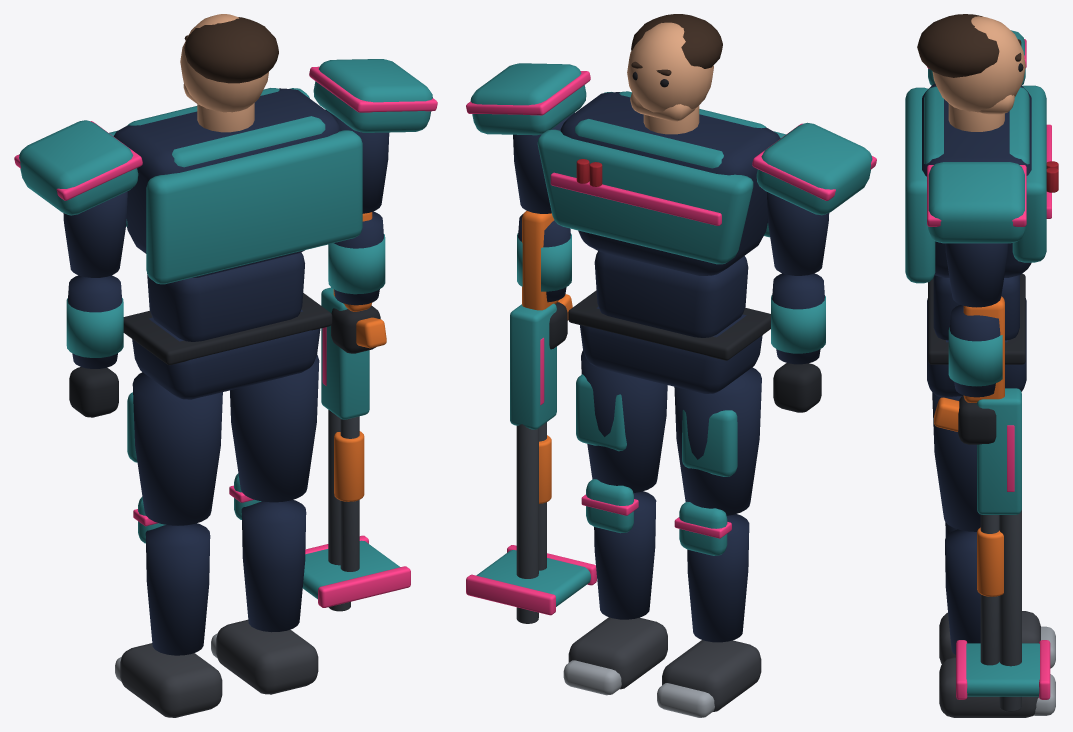
The model's file is ratchet.glb.
The picture shows the model from 3 angles, left to right: view 1: azimuth 30°, elevation 25°; view 2: azimuth 150°, elevation 25°; view 3: azimuth 270°, elevation 25°; orthographic projection. The views are drawn at different scales.
Visible parts, largest first — view 1: BackPlate, Thigh0, Thigh1, Waist, Torso, Shin0, Shin1, Pauldron0, Pelvis, Pauldron1, Boot1, Boot0 (+22 smaller); view 2: ChestPlate, Torso, Waist, Thigh0, Thigh1, Pauldron0, Pelvis, Shin0, Shin1, Pauldron1, Head, Receiver (+30 smaller); view 3: Pauldron1, Receiver, BackPlate, Head, Torso, Thigh1, HairCap, Shin1, ChestPlate, UpperArm1, Barrel, RamPlate (+23 smaller).
Part boxes in pixels (left/top/right/bottom): BackPlate: left=146, top=130, right=362, bottom=284; Thigh0: left=132, top=372, right=222, bottom=525; Thigh1: left=230, top=355, right=319, bottom=502; Waist: left=147, top=252, right=304, bottom=341; Torso: left=113, top=88, right=340, bottom=277; Shin0: left=145, top=523, right=210, bottom=655; Shin1: left=241, top=500, right=306, bottom=632; Pauldron0: left=19, top=120, right=138, bottom=215; Pelvis: left=132, top=309, right=320, bottom=399; Pauldron1: left=313, top=59, right=432, bottom=132; Boot1: left=216, top=619, right=318, bottom=694; Boot0: left=120, top=643, right=222, bottom=717; ChestPlate: left=537, top=129, right=753, bottom=264; Torso: left=560, top=92, right=780, bottom=275; Waist: left=594, top=251, right=748, bottom=337; Thigh0: left=674, top=367, right=761, bottom=515; Thigh1: left=581, top=350, right=667, bottom=493; Pauldron0: left=756, top=122, right=872, bottom=215; Pelvis: left=580, top=306, right=762, bottom=393; Shin0: left=687, top=514, right=749, bottom=642; Shin1: left=594, top=491, right=656, bottom=619; Pauldron1: left=470, top=63, right=586, bottom=135; Head: left=627, top=22, right=713, bottom=112; Receiver: left=510, top=303, right=556, bottom=429; Pauldron1: left=928, top=162, right=1025, bottom=243; Receiver: left=977, top=388, right=1021, bottom=514; BackPlate: left=905, top=87, right=935, bottom=283; Head: left=932, top=16, right=1025, bottom=112; Torso: left=922, top=84, right=1031, bottom=277; Thigh1: left=932, top=392, right=980, bottom=531; HairCap: left=917, top=14, right=999, bottom=77; Shin1: left=945, top=529, right=980, bottom=654; ChestPlate: left=1012, top=85, right=1046, bottom=262; UpperArm1: left=945, top=243, right=1008, bottom=307; Barrel: left=999, top=510, right=1021, bottom=711; RamPlate: left=966, top=643, right=1039, bottom=696.
Bounding box in the file's own units: 1.14 × 1.95 × 0.4074.
